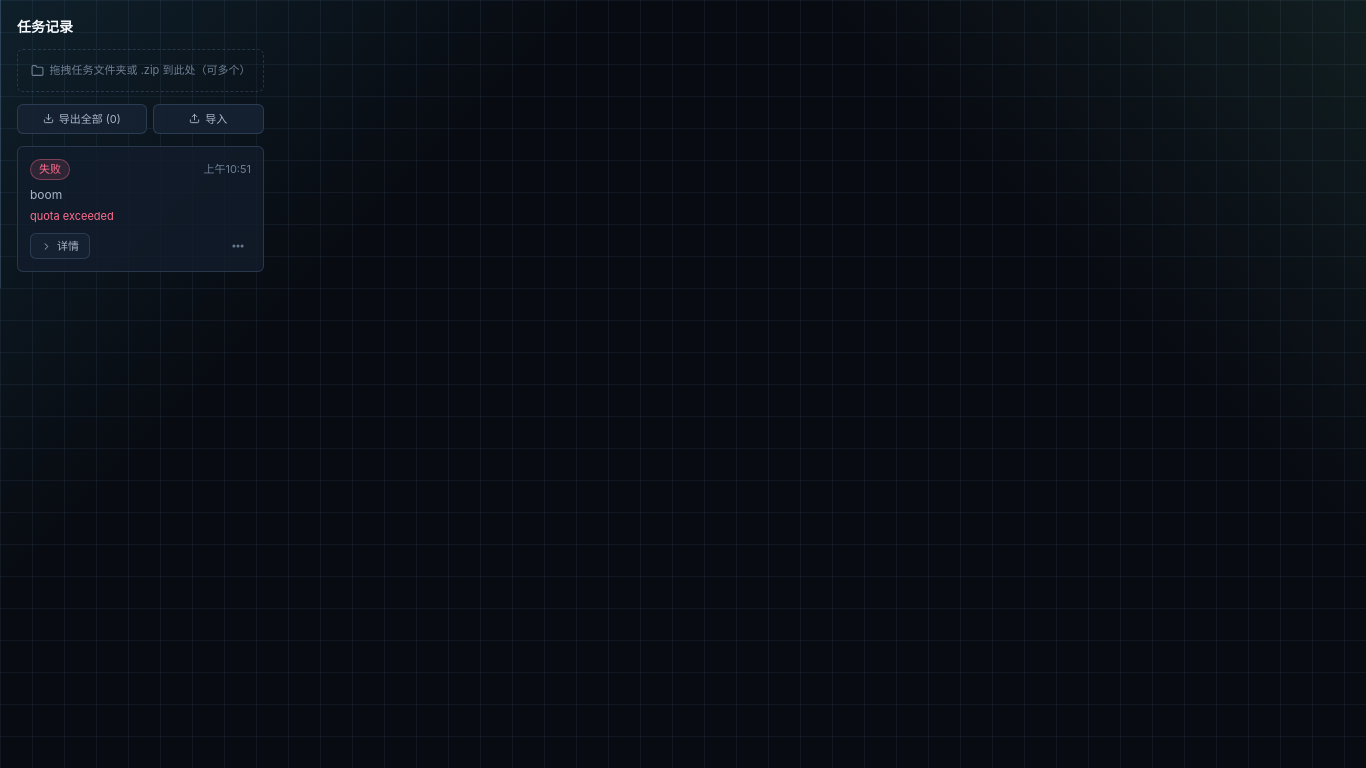
VideoHistory — 导出 .zip menu item › is available for failed tasks too (task.json 保留参数，供失败任务留档/回填)
This screenshot has width=1366, height=768.
Click the button named "更多动作" at (238, 246), box [225,233,251,259]
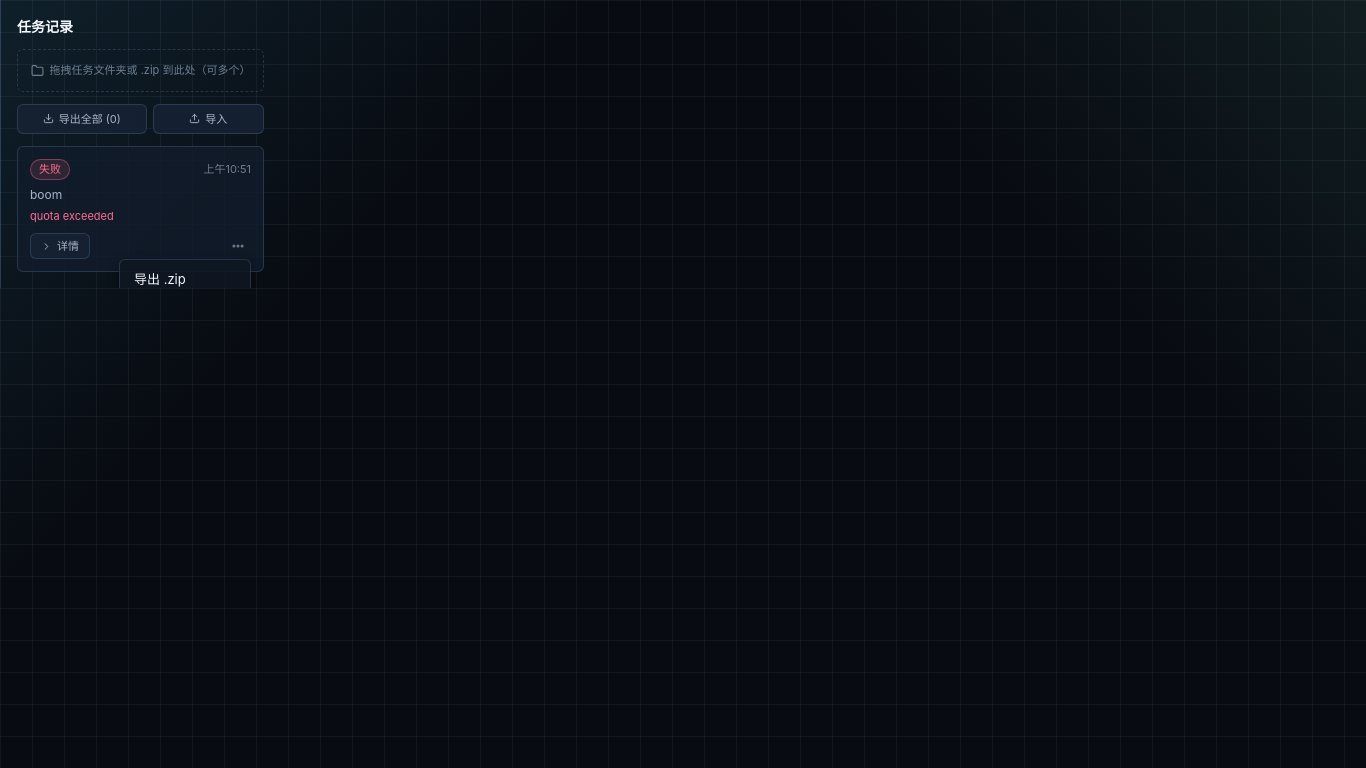
Now the button "导出 .zip" is shown, box [124,264,246,288]
